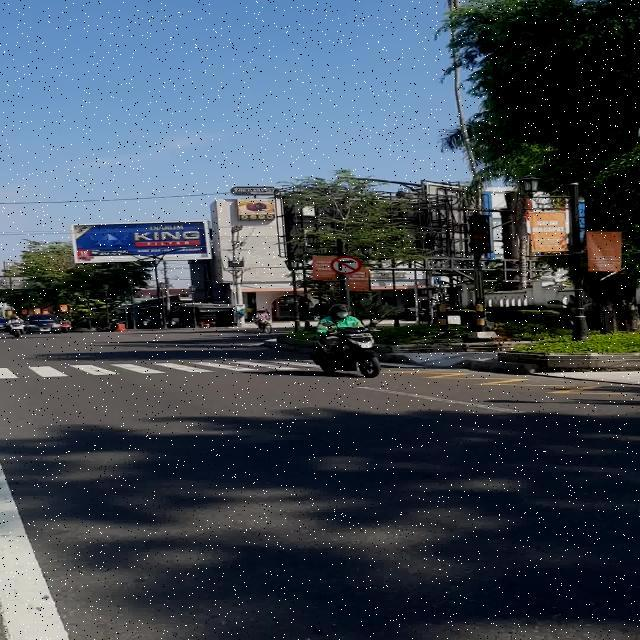Dilarang Belok Kanan: (330, 256, 360, 274)
